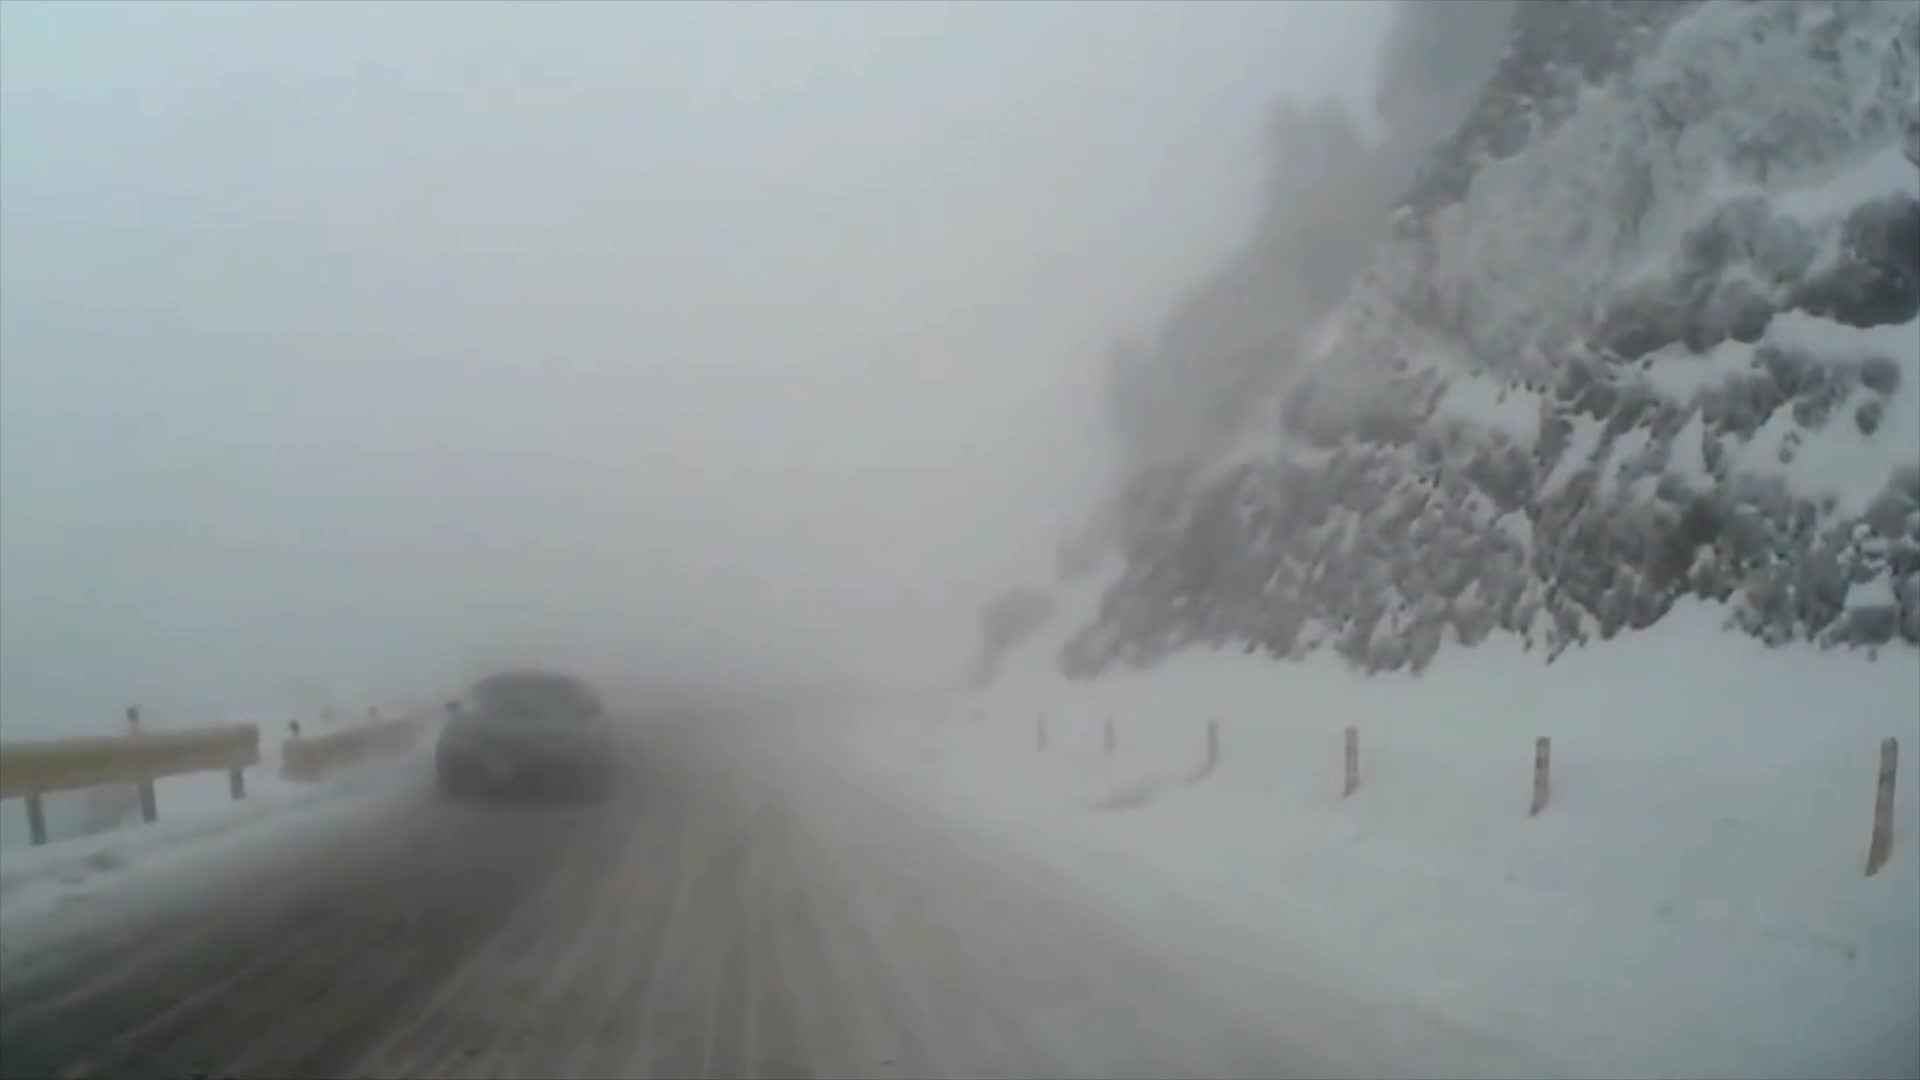vehicle: (430, 667, 612, 800)
